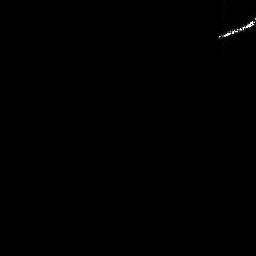ship: (217, 11, 256, 39)
